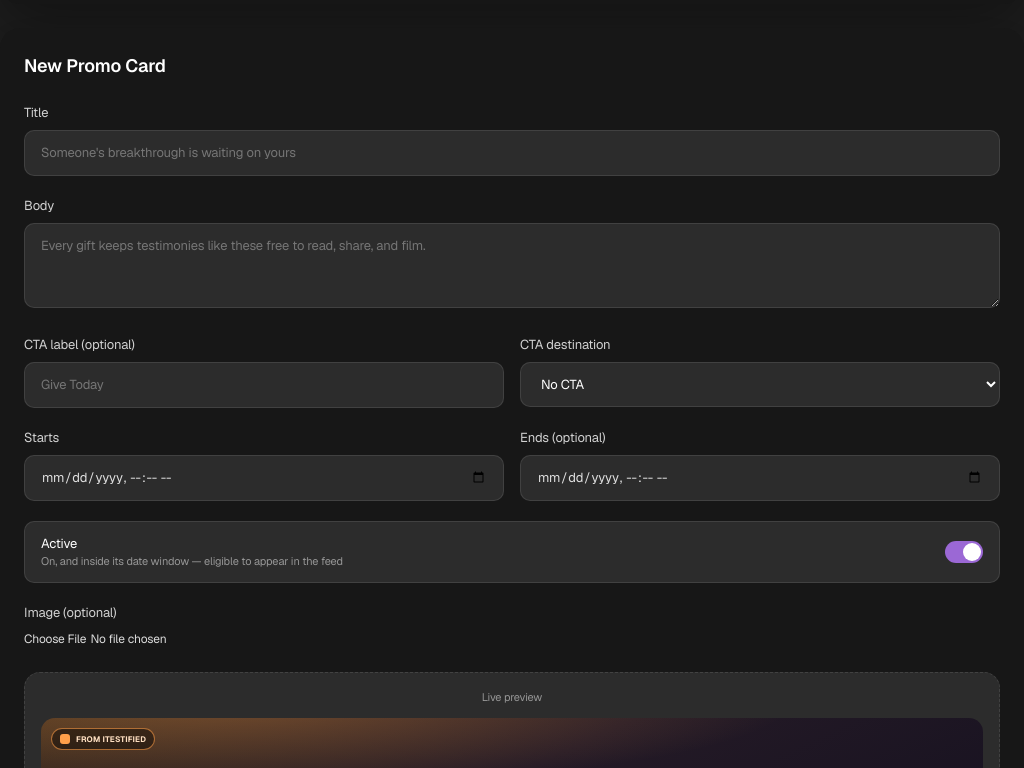
Scenario: HomePromosPage › the CTA URL field only appears when the destination is External URL
(page scrolled)
Expected: the field with placeholder "https://itestified.app/events/convention" is not shown
Select "External URL" in the dropdown showing "No CTA" at point(760, 385), box 520,362 -> 1000,407
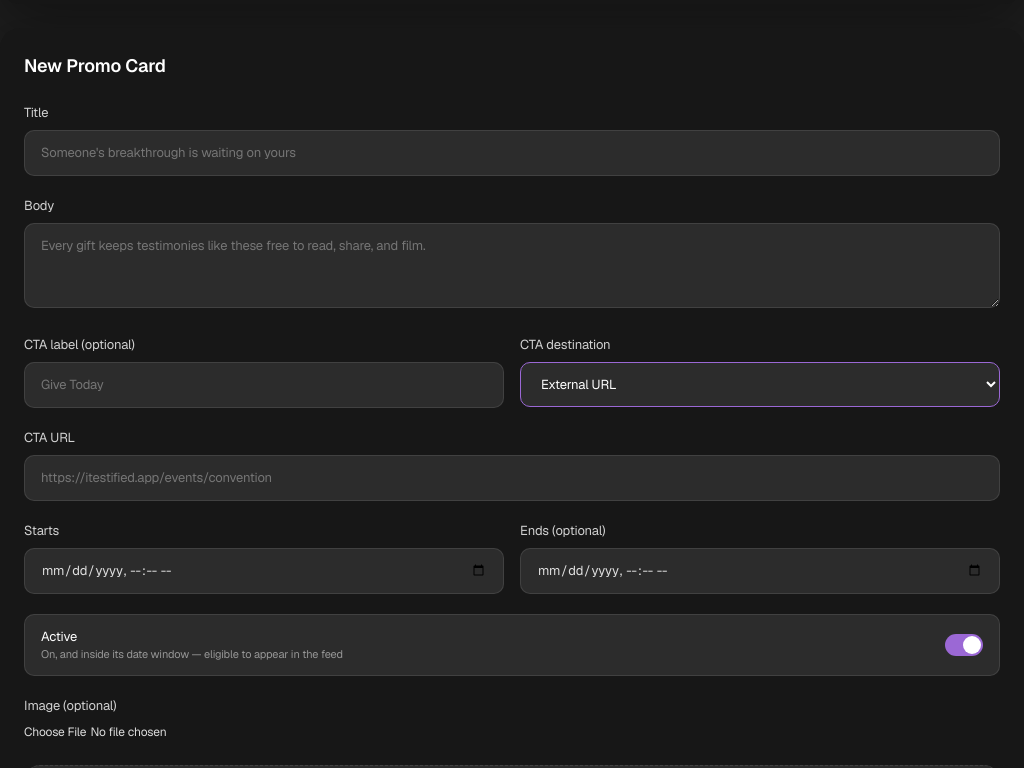
Expected: the field with placeholder "https://itestified.app/events/convention" is shown, 24,455 -> 1000,501
